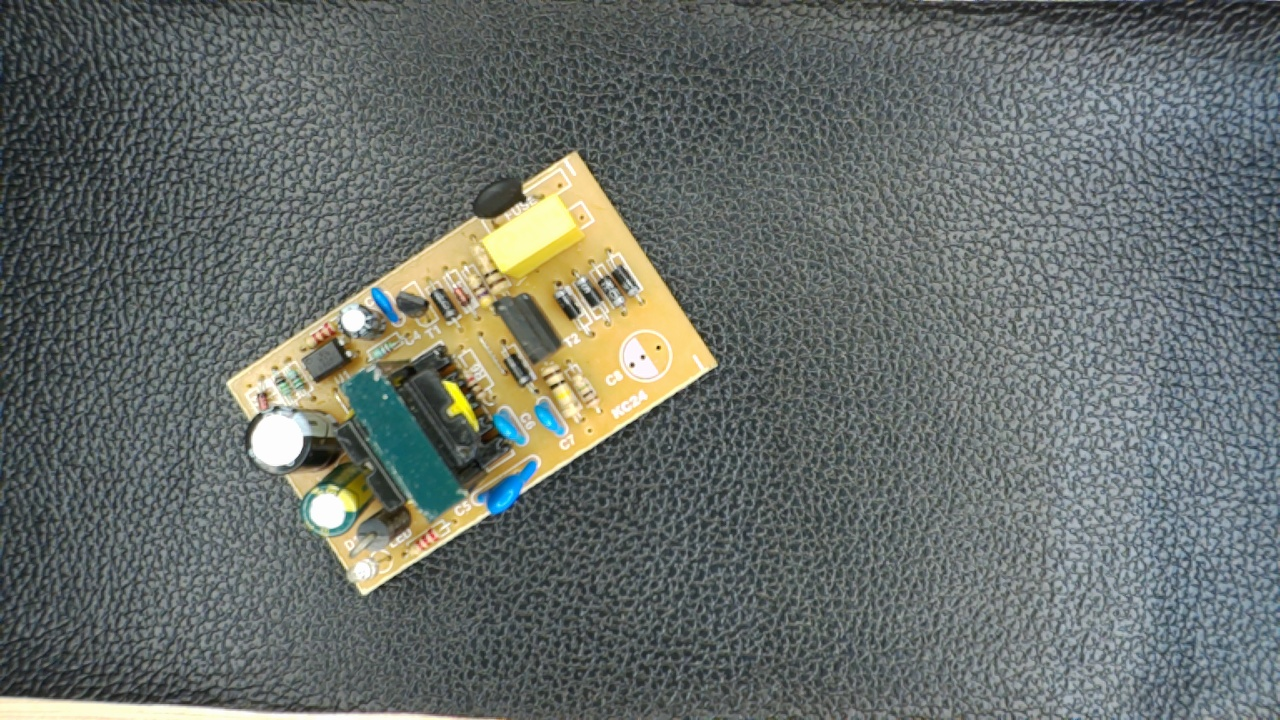fuse: (467, 177, 548, 228)
mov: (461, 459, 543, 513)
optocoupler: (290, 338, 357, 383)
